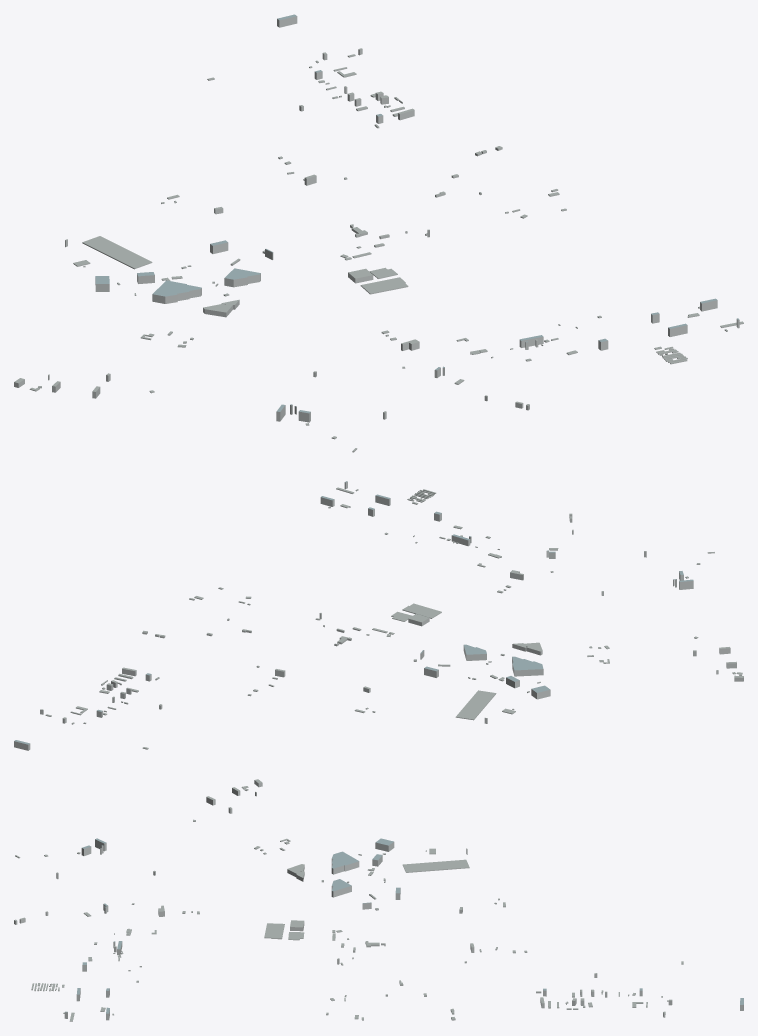
File: far.glb
3 views of the same model, one above another, from view 1: azimuth 30°, elevation 25°; view 2: azimuth 150°, elevation 25°; view 3: azimuth 270°, elevation 25° (orthographic). The views are drawn at different scales.
Size of the model in its own units: 1600 by 24.1 by 2067.
